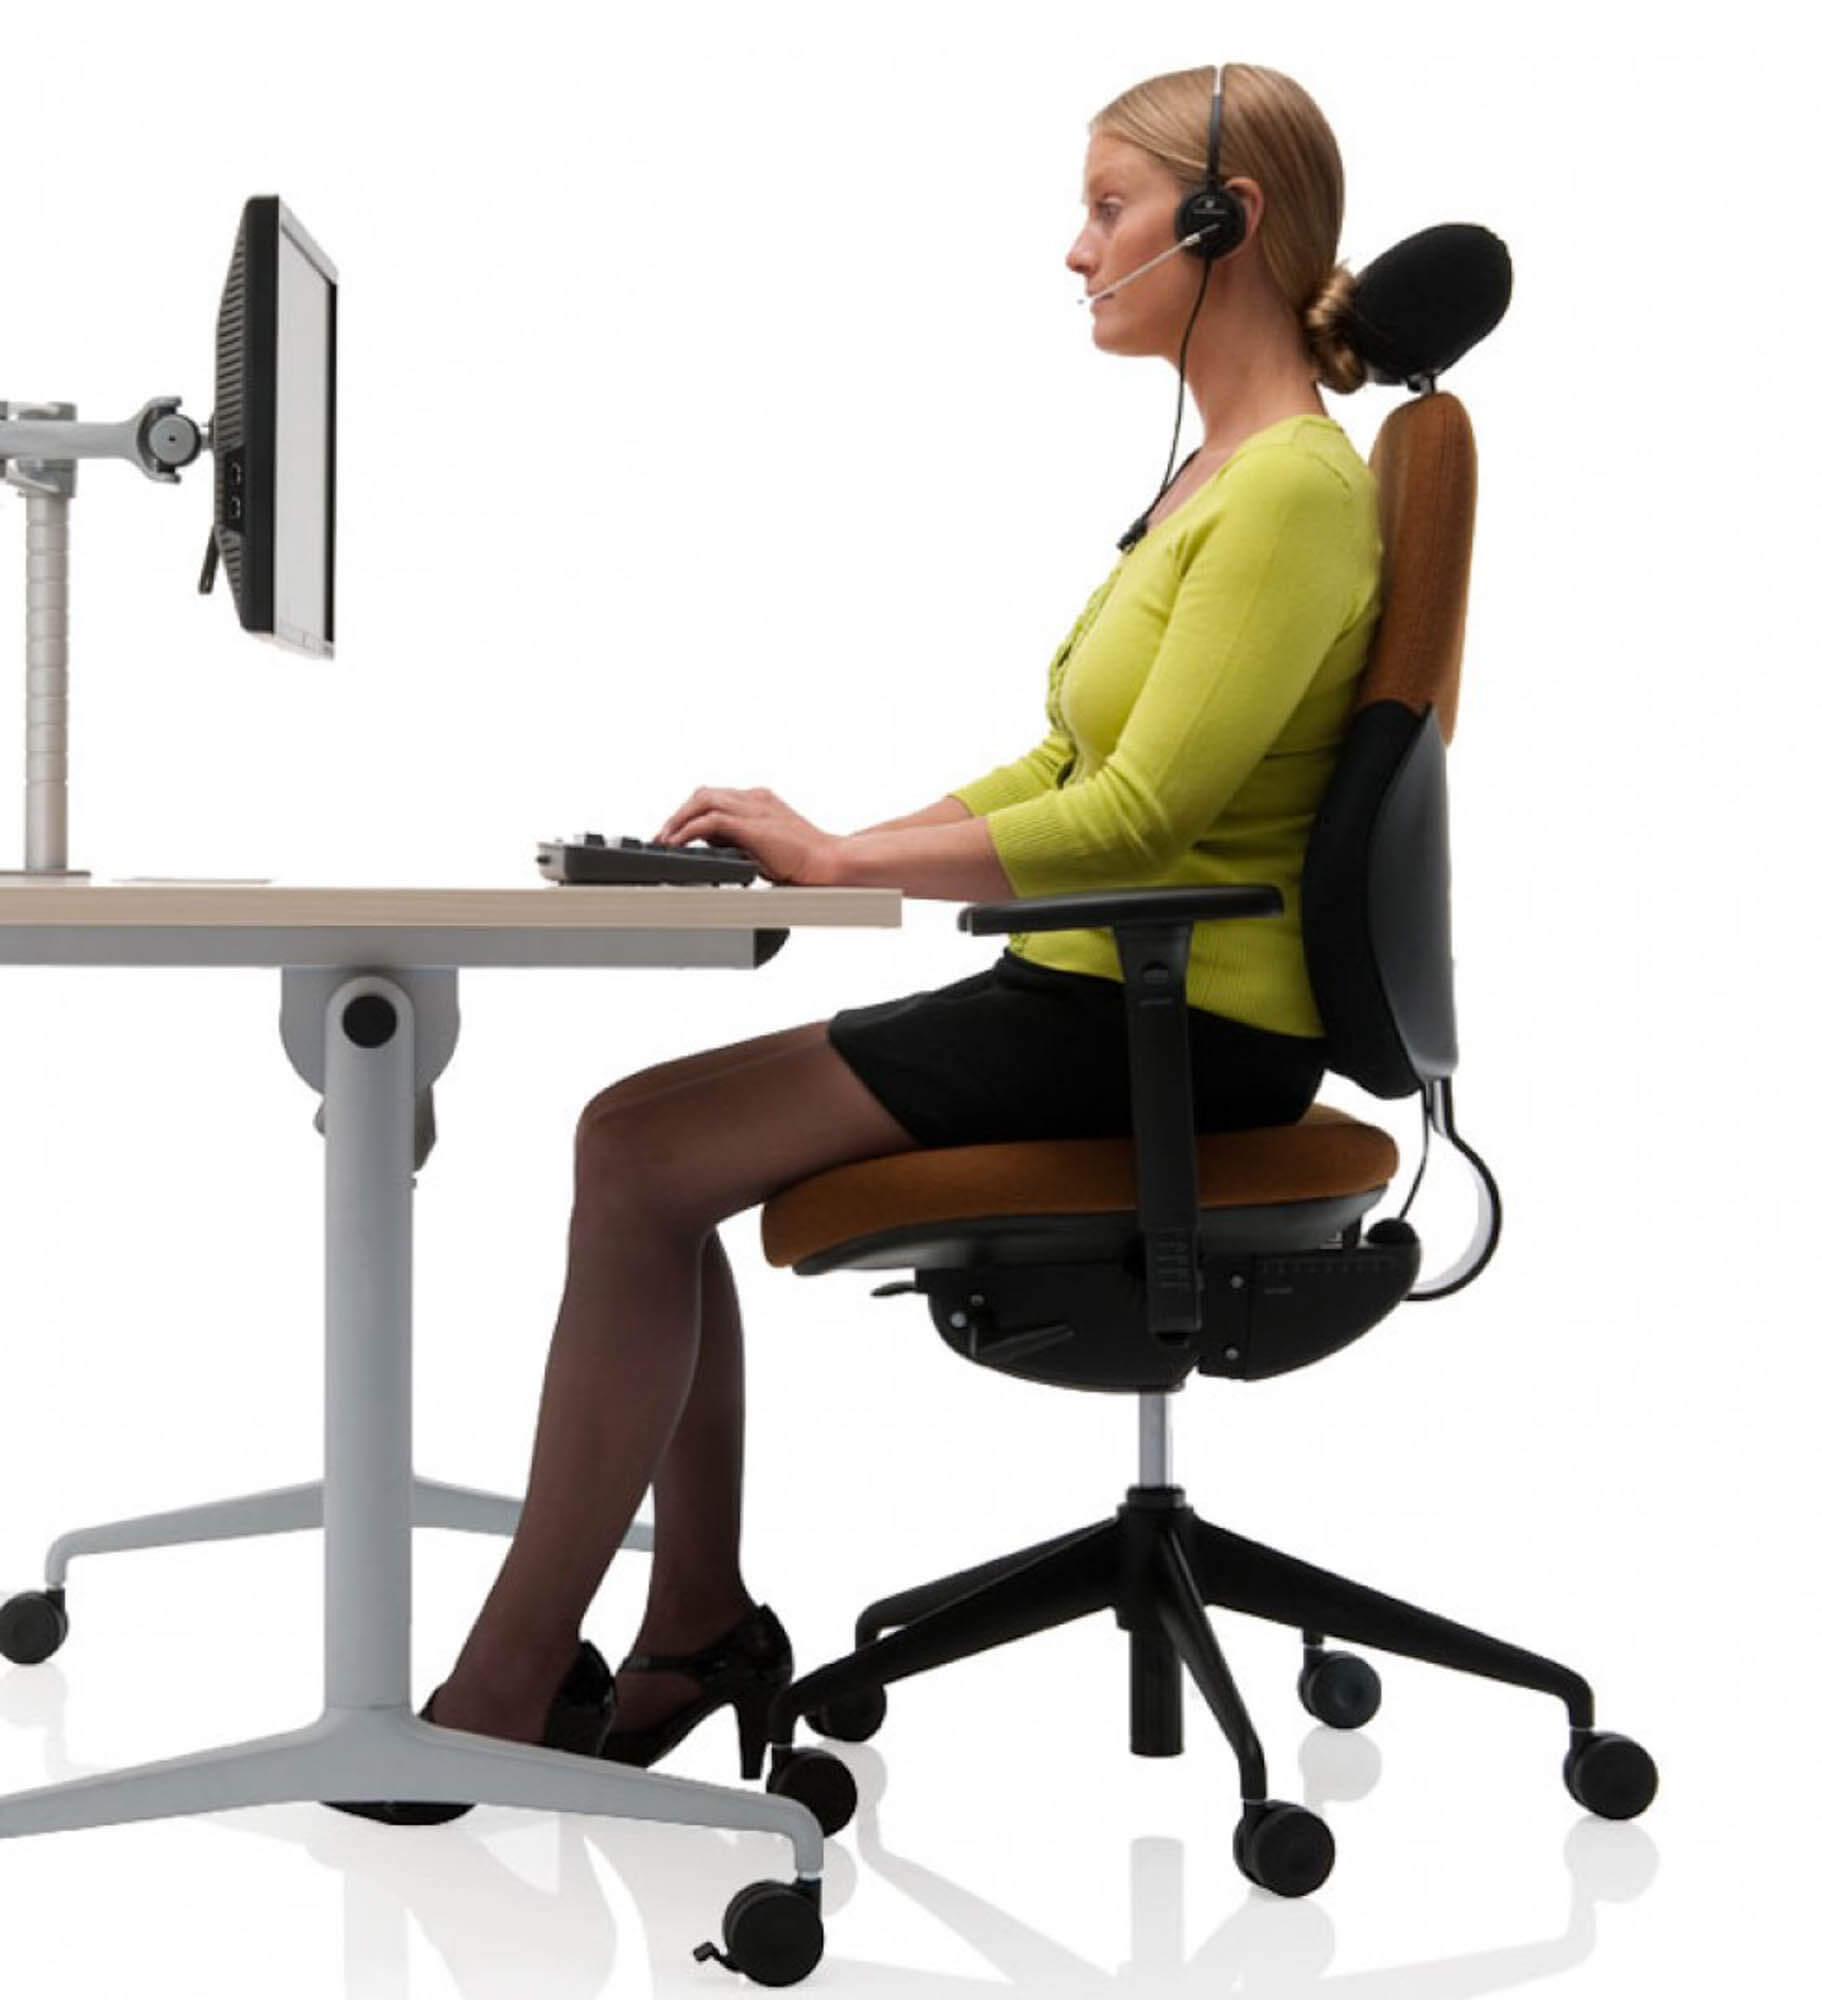chairs: (758, 218, 1672, 1897)
